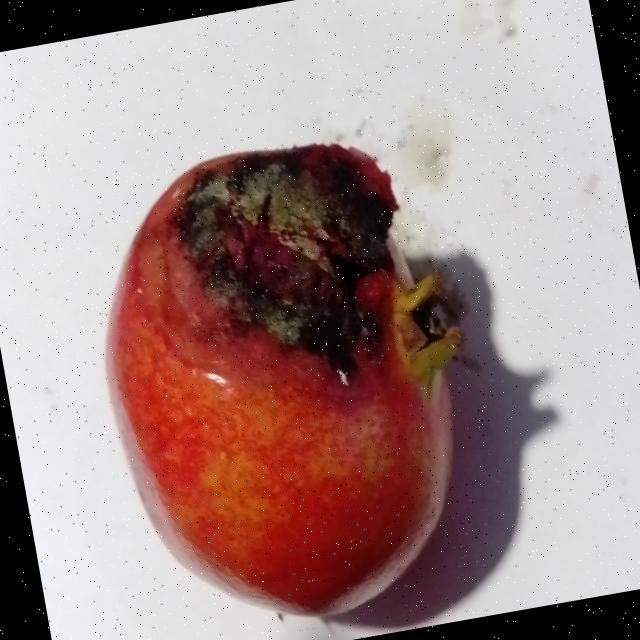Rotten: (71, 115, 508, 640)
